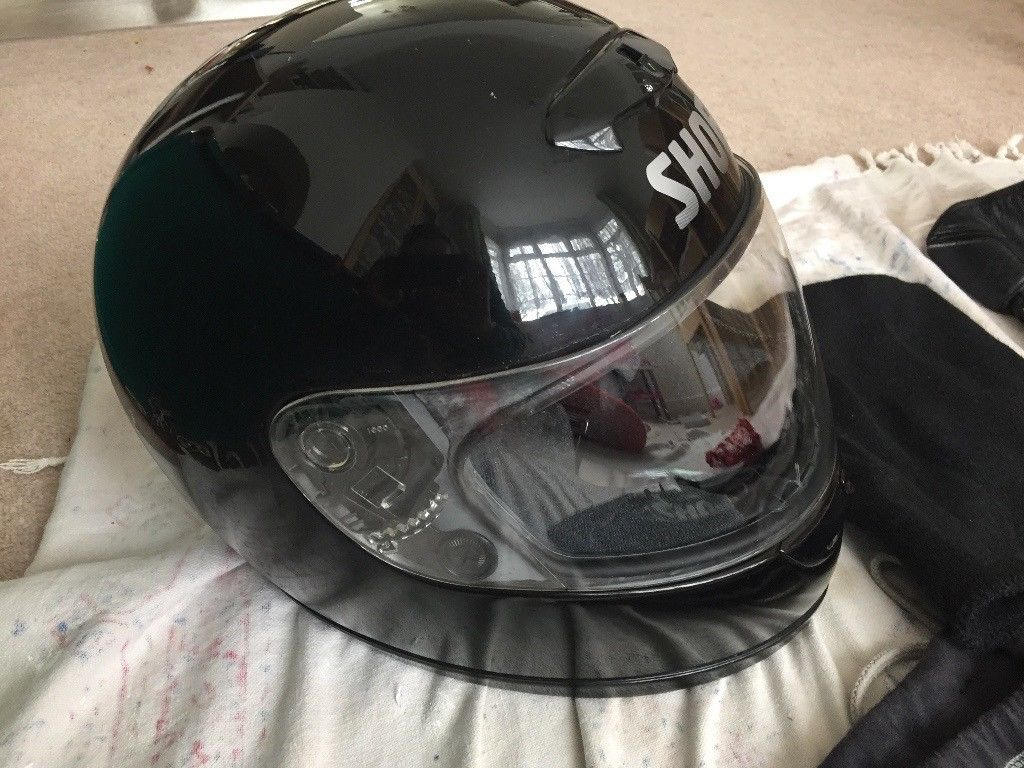with_helmet: (83, 2, 868, 706)
